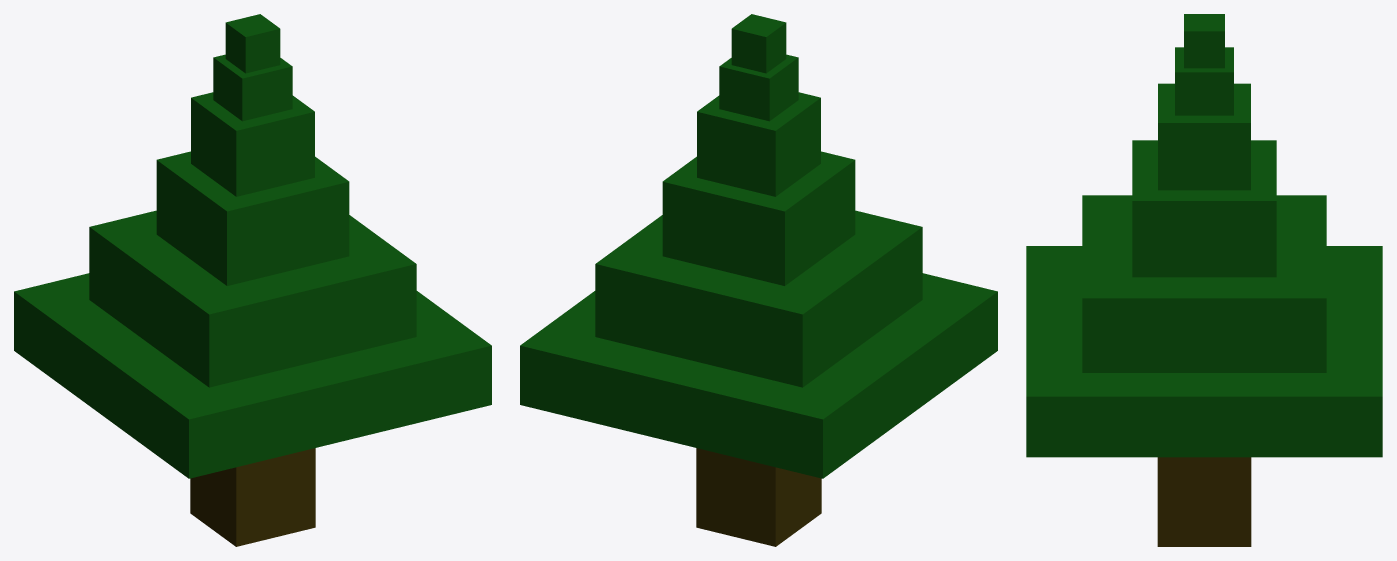
File: greencubictree.fbx
The picture shows the model from 3 angles, left to right: view 1: azimuth 30°, elevation 25°; view 2: azimuth 150°, elevation 25°; view 3: azimuth 270°, elevation 25°; orthographic projection.
Visible parts, largest first — view 1: polySurface2; view 2: polySurface2; view 3: polySurface2.
Boxes of the visible parts, x1,y1,x2,y2 form: polySurface2: [14, 14, 491, 546]; polySurface2: [520, 14, 997, 546]; polySurface2: [1026, 14, 1382, 546].
Bounding box in the file's own units: 3.8 × 5.94 × 3.8.
1 material, 1 textured.
